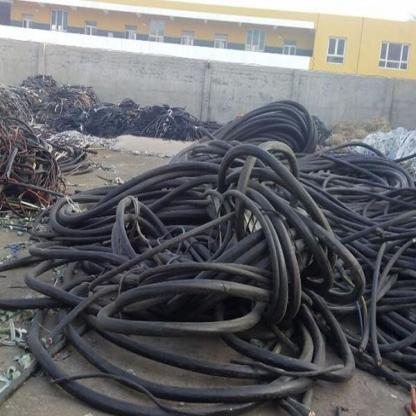wires: (2, 74, 414, 415)
